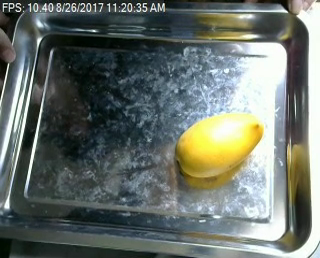Mango: (180, 110, 258, 179)
